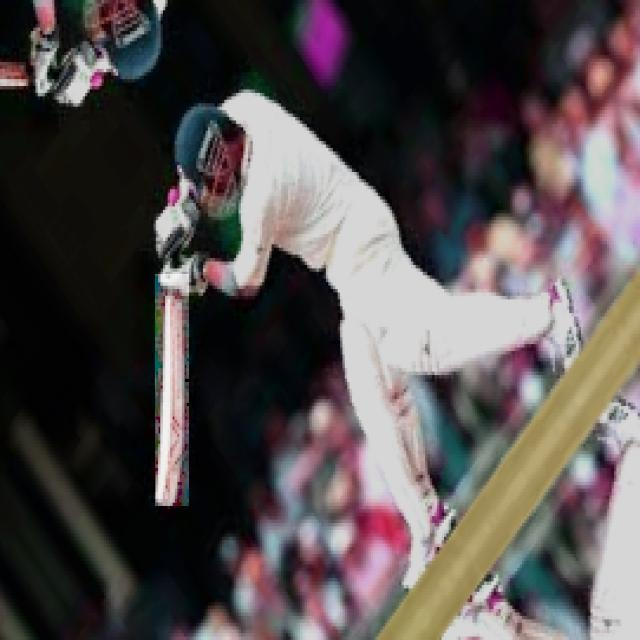bat: (152, 283, 189, 510)
